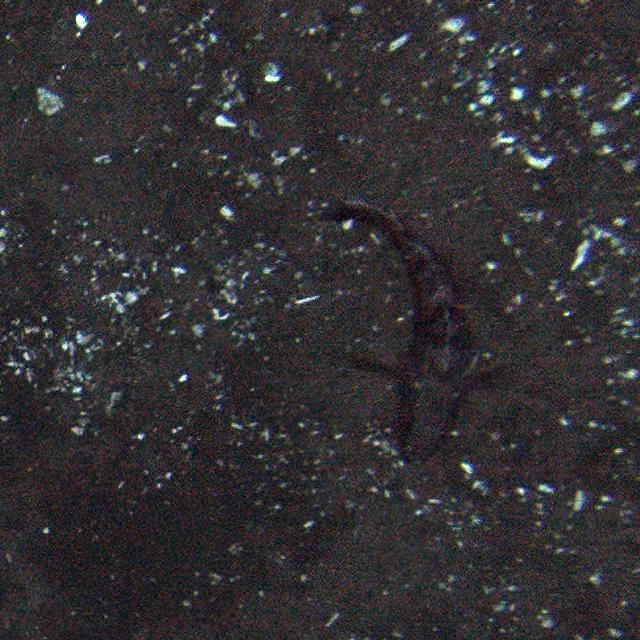roundfish: (323, 192, 482, 472)
